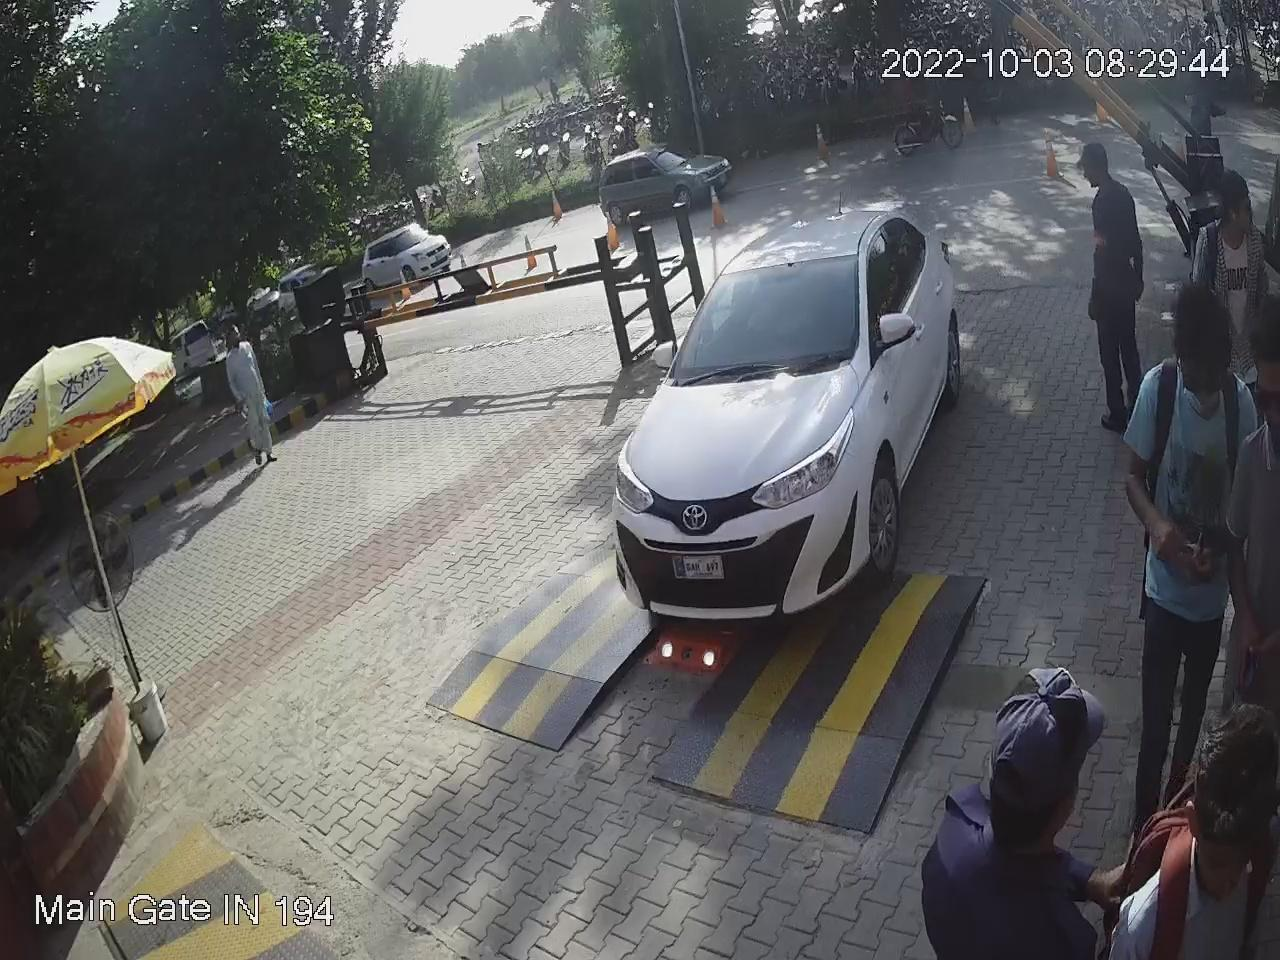windshield: (668, 247, 863, 385)
